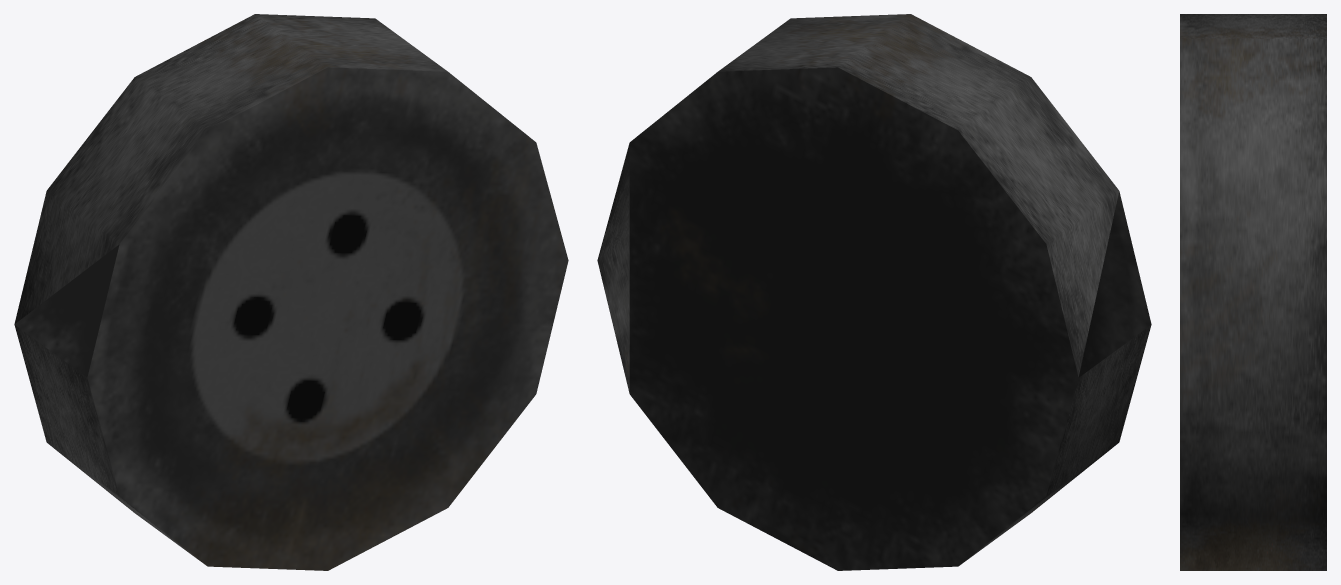
File: front_wheel_right.dae
The picture shows the model from 3 angles, left to right: view 1: azimuth 30°, elevation 25°; view 2: azimuth 150°, elevation 25°; view 3: azimuth 270°, elevation 25°; orthographic projection.
Visible parts, largest first — view 1: front_wheel_right; view 2: front_wheel_right; view 3: front_wheel_right.
Part boxes in pixels (left/top/right/bottom): front_wheel_right: left=14, top=14, right=568, bottom=570; front_wheel_right: left=597, top=14, right=1151, bottom=570; front_wheel_right: left=1180, top=14, right=1326, bottom=570.
Bounding box in the file's own units: 67.65 × 17.77 × 67.65.
Materials: 1 (1 with a texture image).
